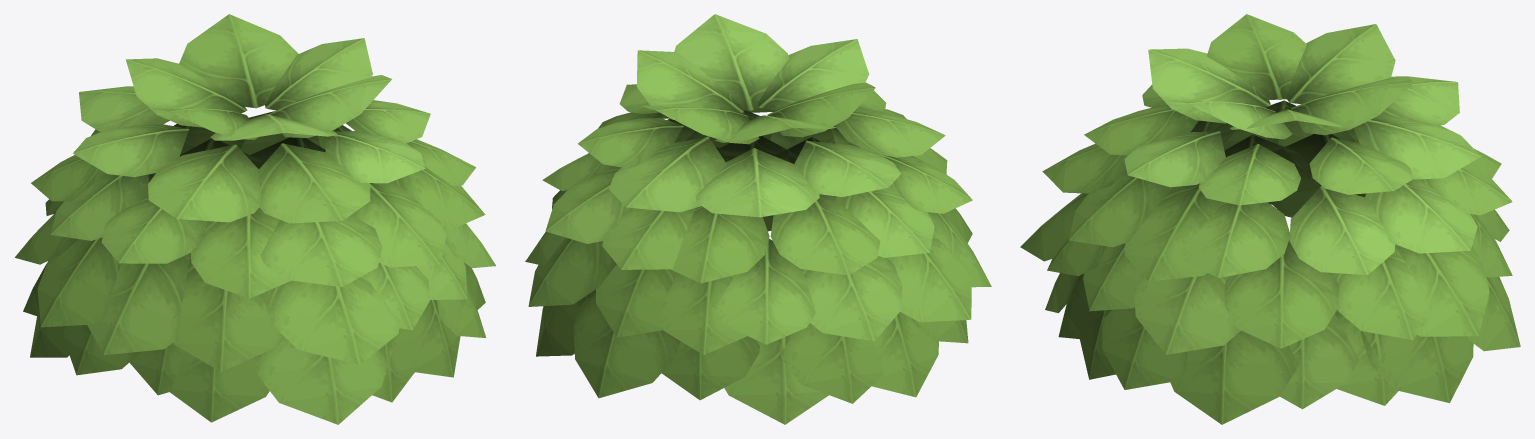
3 renders of one model, left to right at view 1: azimuth 30°, elevation 25°; view 2: azimuth 150°, elevation 25°; view 3: azimuth 270°, elevation 25°, orthographic. The views are drawn at different scales.
Visible parts, largest first — view 1: grid_2_leaves_LOD0; view 2: grid_2_leaves_LOD0; view 3: grid_2_leaves_LOD0.
Part boxes in pixels (box(x1,y1,x2,y2)): grid_2_leaves_LOD0: box(15, 14, 495, 424); grid_2_leaves_LOD0: box(525, 14, 991, 424); grid_2_leaves_LOD0: box(1020, 14, 1520, 424).
Size of what is drawn, in the model's own units: 1.55 by 0.9494 by 1.56.
1 material, 1 textured.
